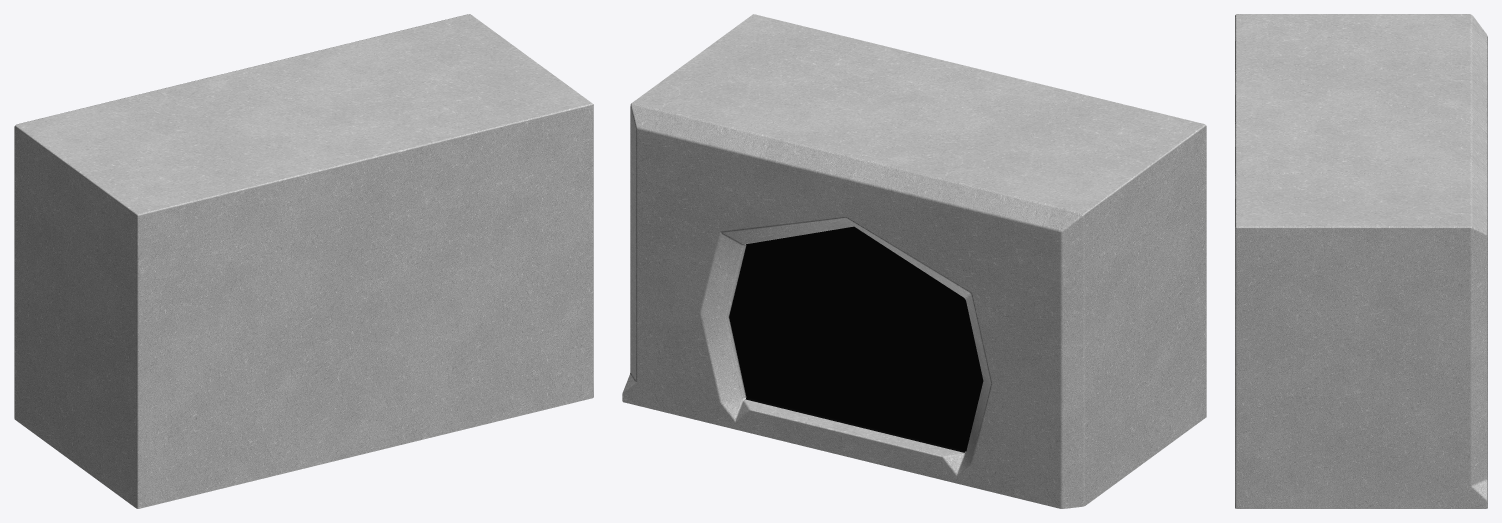
The model's file is Tunnel.fbx.
The picture shows the model from 3 angles, left to right: view 1: azimuth 30°, elevation 25°; view 2: azimuth 150°, elevation 25°; view 3: azimuth 270°, elevation 25°; orthographic projection. The views are drawn at different scales.
Visible parts, largest first — view 1: Tunnel; view 2: Tunnel; view 3: Tunnel.
Boxes of the visible parts, left/top/right/bottom form: Tunnel: left=14, top=14, right=593, bottom=508; Tunnel: left=622, top=14, right=1206, bottom=508; Tunnel: left=1235, top=14, right=1487, bottom=508.
Bounding box in the file's own units: 10 × 6.16 × 5.
